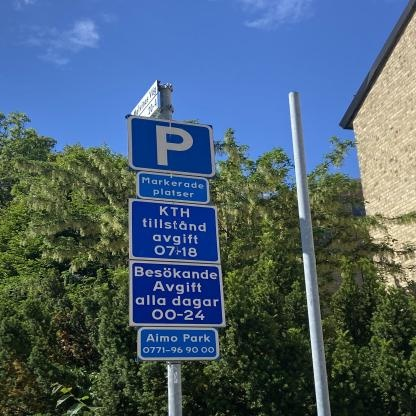P-skylt: (124, 113, 220, 178)
